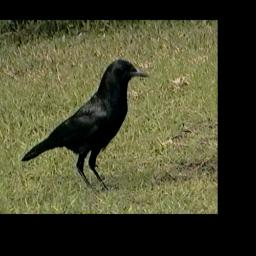Crow: (21, 59, 150, 193)
